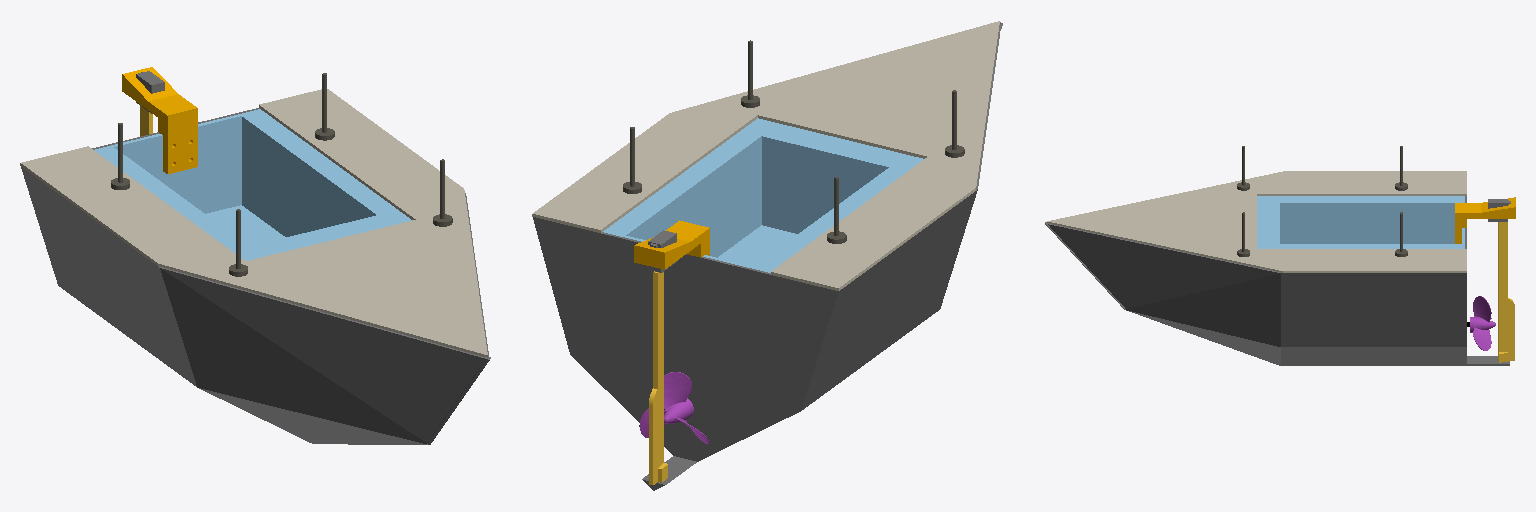
robot.urdf — onshape:
<robot name="onshape">
<link name="base_link"></link>
<joint name="base_link_to_base" type="fixed">
<parent link="base_link"/>
<child link="staticrobot" />
<origin rpy="0.0 0 0" xyz="0 0 0"/>
</joint>
<link name="staticrobot">
<visual>
<origin xyz="-0.0760565 1.12963 0.380489" rpy="0.610865 -1.66533e-16 1.5708" />
<geometry>
<mesh filename="package://msd_bot/vdowelconnector.stl"/>
</geometry>
<material name="vdowelconnector_material">
<color rgba="0.972549 0.529412 0.00392157 1.0"/>
</material>
</visual>
<collision>
<origin xyz="-0.0760565 1.12963 0.380489" rpy="0.610865 -1.66533e-16 1.5708" />
<geometry>
<mesh filename="package://msd_bot/vdowelconnector.stl"/>
</geometry>
<material name="vdowelconnector_material">
<color rgba="0.972549 0.529412 0.00392157 1.0"/>
</material>
</collision>
<visual>
<origin xyz="0.234341 1.0166 0.558811" rpy="0 -0 0" />
<geometry>
<mesh filename="package://msd_bot/antenna.stl"/>
</geometry>
<material name="antenna_material">
<color rgba="0.4 0.388235 0.34902 1.0"/>
</material>
</visual>
<collision>
<origin xyz="0.234341 1.0166 0.558811" rpy="0 -0 0" />
<geometry>
<mesh filename="package://msd_bot/antenna.stl"/>
</geometry>
<material name="antenna_material">
<color rgba="0.4 0.388235 0.34902 1.0"/>
</material>
</collision>
<visual>
<origin xyz="0.0819412 1.1436 0.249566" rpy="0 3.15544e-30 -3.14159" />
<geometry>
<mesh filename="package://msd_bot/rudderbottommount.stl"/>
</geometry>
<material name="rudderbottommount_material">
<color rgba="0.498039 0.498039 0.498039 1.0"/>
</material>
</visual>
<collision>
<origin xyz="0.0819412 1.1436 0.249566" rpy="0 3.15544e-30 -3.14159" />
<geometry>
<mesh filename="package://msd_bot/rudderbottommount.stl"/>
</geometry>
<material name="rudderbottommount_material">
<color rgba="0.498039 0.498039 0.498039 1.0"/>
</material>
</collision>
<visual>
<origin xyz="0.0719412 1.22345 0.602081" rpy="-1.5708 6.8762e-15 -1.61338e-29" />
<geometry>
<mesh filename="package://msd_bot/servo.stl"/>
</geometry>
<material name="servo_material">
<color rgba="0.501961 0.501961 0.501961 1.0"/>
</material>
</visual>
<collision>
<origin xyz="0.0719412 1.22345 0.602081" rpy="-1.5708 6.8762e-15 -1.61338e-29" />
<geometry>
<mesh filename="package://msd_bot/servo.stl"/>
</geometry>
<material name="servo_material">
<color rgba="0.501961 0.501961 0.501961 1.0"/>
</material>
</collision>
<visual>
<origin xyz="0.0819412 0.783555 0.478166" rpy="0 -0 0" />
<geometry>
<mesh filename="package://msd_bot/hull.stl"/>
</geometry>
<material name="hull_material">
<color rgba="0.498039 0.498039 0.498039 1.0"/>
</material>
</visual>
<collision>
<origin xyz="0.0819412 0.783555 0.478166" rpy="0 -0 0" />
<geometry>
<mesh filename="package://msd_bot/hull.stl"/>
</geometry>
<material name="hull_material">
<color rgba="0.498039 0.498039 0.498039 1.0"/>
</material>
</collision>
<visual>
<origin xyz="0.0819412 1.11217 0.260168" rpy="0 -0 3.14159" />
<geometry>
<mesh filename="package://msd_bot/30degsplitter.stl"/>
</geometry>
<material name="30degsplitter_material">
<color rgba="0.647059 0.647059 0.647059 1.0"/>
</material>
</visual>
<collision>
<origin xyz="0.0819412 1.11217 0.260168" rpy="0 -0 3.14159" />
<geometry>
<mesh filename="package://msd_bot/30degsplitter.stl"/>
</geometry>
<material name="30degsplitter_material">
<color rgba="0.647059 0.647059 0.647059 1.0"/>
</material>
</collision>
<visual>
<origin xyz="0.0819412 0.788 0.554366" rpy="0 -0 0" />
<geometry>
<mesh filename="package://msd_bot/hullcover.stl"/>
</geometry>
<material name="hullcover_material">
<color rgba="0.8 0.776471 0.713725 1.0"/>
</material>
</visual>
<collision>
<origin xyz="0.0819412 0.788 0.554366" rpy="0 -0 0" />
<geometry>
<mesh filename="package://msd_bot/hullcover.stl"/>
</geometry>
<material name="hullcover_material">
<color rgba="0.8 0.776471 0.713725 1.0"/>
</material>
</collision>
<visual>
<origin xyz="-0.0708549 1.12963 0.376847" rpy="2.53073 -0 -1.5708" />
<geometry>
<mesh filename="package://msd_bot/sidedowel.stl"/>
</geometry>
<material name="sidedowel_material">
<color rgba="0.941176 0.87451 0.678431 1.0"/>
</material>
</visual>
<collision>
<origin xyz="-0.0708549 1.12963 0.376847" rpy="2.53073 -0 -1.5708" />
<geometry>
<mesh filename="package://msd_bot/sidedowel.stl"/>
</geometry>
<material name="sidedowel_material">
<color rgba="0.941176 0.87451 0.678431 1.0"/>
</material>
</collision>
<visual>
<origin xyz="-0.0704588 1.0166 0.558811" rpy="0 -0 0" />
<geometry>
<mesh filename="package://msd_bot/antenna.stl"/>
</geometry>
<material name="antenna_material">
<color rgba="0.4 0.388235 0.34902 1.0"/>
</material>
</visual>
<collision>
<origin xyz="-0.0704588 1.0166 0.558811" rpy="0 -0 0" />
<geometry>
<mesh filename="package://msd_bot/antenna.stl"/>
</geometry>
<material name="antenna_material">
<color rgba="0.4 0.388235 0.34902 1.0"/>
</material>
</collision>
<visual>
<origin xyz="0.240157 1.12963 0.380177" rpy="0.610865 5.55112e-17 -1.5708" />
<geometry>
<mesh filename="package://msd_bot/vdowelconnector.stl"/>
</geometry>
<material name="vdowelconnector_material">
<color rgba="0.972549 0.529412 0.00392157 1.0"/>
</material>
</visual>
<collision>
<origin xyz="0.240157 1.12963 0.380177" rpy="0.610865 5.55112e-17 -1.5708" />
<geometry>
<mesh filename="package://msd_bot/vdowelconnector.stl"/>
</geometry>
<material name="vdowelconnector_material">
<color rgba="0.972549 0.529412 0.00392157 1.0"/>
</material>
</collision>
<visual>
<origin xyz="0.0819412 0.935955 0.401966" rpy="4.36955e-14 2.06286e-14 1.36592e-16" />
<geometry>
<mesh filename="package://msd_bot/cargohold.stl"/>
</geometry>
<material name="cargohold_material">
<color rgba="0.615686 0.811765 0.929412 1.0"/>
</material>
</visual>
<collision>
<origin xyz="0.0819412 0.935955 0.401966" rpy="4.36955e-14 2.06286e-14 1.36592e-16" />
<geometry>
<mesh filename="package://msd_bot/cargohold.stl"/>
</geometry>
<material name="cargohold_material">
<color rgba="0.615686 0.811765 0.929412 1.0"/>
</material>
</collision>
<visual>
<origin xyz="-0.0704588 0.7118 0.558811" rpy="0 -0 0" />
<geometry>
<mesh filename="package://msd_bot/antenna.stl"/>
</geometry>
<material name="antenna_material">
<color rgba="0.4 0.388235 0.34902 1.0"/>
</material>
</visual>
<collision>
<origin xyz="-0.0704588 0.7118 0.558811" rpy="0 -0 0" />
<geometry>
<mesh filename="package://msd_bot/antenna.stl"/>
</geometry>
<material name="antenna_material">
<color rgba="0.4 0.388235 0.34902 1.0"/>
</material>
</collision>
<visual>
<origin xyz="0.289365 1.12963 0.537786" rpy="1.5708 0.290161 -3.89362e-17" />
<geometry>
<mesh filename="package://msd_bot/sidedowel2.stl"/>
</geometry>
<material name="sidedowel2_material">
<color rgba="0.941176 0.87451 0.678431 1.0"/>
</material>
</visual>
<collision>
<origin xyz="0.289365 1.12963 0.537786" rpy="1.5708 0.290161 -3.89362e-17" />
<geometry>
<mesh filename="package://msd_bot/sidedowel2.stl"/>
</geometry>
<material name="sidedowel2_material">
<color rgba="0.941176 0.87451 0.678431 1.0"/>
</material>
</collision>
<visual>
<origin xyz="0.0819412 1.004 0.338466" rpy="3.14159 -0 1.5708" />
<geometry>
<mesh filename="package://msd_bot/brushlessmotor.stl"/>
</geometry>
<material name="brushlessmotor_material">
<color rgba="0 0.00784314 0.027451 1.0"/>
</material>
</visual>
<collision>
<origin xyz="0.0819412 1.004 0.338466" rpy="3.14159 -0 1.5708" />
<geometry>
<mesh filename="package://msd_bot/brushlessmotor.stl"/>
</geometry>
<material name="brushlessmotor_material">
<color rgba="0 0.00784314 0.027451 1.0"/>
</material>
</collision>
<visual>
<origin xyz="0.234956 1.12963 0.376535" rpy="2.53073 -0 1.5708" />
<geometry>
<mesh filename="package://msd_bot/sidedowel.stl"/>
</geometry>
<material name="sidedowel_material">
<color rgba="0.941176 0.87451 0.678431 1.0"/>
</material>
</visual>
<collision>
<origin xyz="0.234956 1.12963 0.376535" rpy="2.53073 -0 1.5708" />
<geometry>
<mesh filename="package://msd_bot/sidedowel.stl"/>
</geometry>
<material name="sidedowel_material">
<color rgba="0.941176 0.87451 0.678431 1.0"/>
</material>
</collision>
<visual>
<origin xyz="0.0819412 1.18022 0.574781" rpy="1.45652e-14 6.8762e-15 1.36592e-16" />
<geometry>
<mesh filename="package://msd_bot/servomount.stl"/>
</geometry>
<material name="servomount_material">
<color rgba="0.980392 0.713725 0.00392157 1.0"/>
</material>
</visual>
<collision>
<origin xyz="0.0819412 1.18022 0.574781" rpy="1.45652e-14 6.8762e-15 1.36592e-16" />
<geometry>
<mesh filename="package://msd_bot/servomount.stl"/>
</geometry>
<material name="servomount_material">
<color rgba="0.980392 0.713725 0.00392157 1.0"/>
</material>
</collision>
<visual>
<origin xyz="0.234341 0.7118 0.558811" rpy="0 -0 0" />
<geometry>
<mesh filename="package://msd_bot/antenna.stl"/>
</geometry>
<material name="antenna_material">
<color rgba="0.4 0.388235 0.34902 1.0"/>
</material>
</visual>
<collision>
<origin xyz="0.234341 0.7118 0.558811" rpy="0 -0 0" />
<geometry>
<mesh filename="package://msd_bot/antenna.stl"/>
</geometry>
<material name="antenna_material">
<color rgba="0.4 0.388235 0.34902 1.0"/>
</material>
</collision>
<visual>
<origin xyz="0.0819412 1.13122 0.260168" rpy="3.14159 -5.55112e-17 3.14159" />
<geometry>
<mesh filename="package://msd_bot/basedowel.stl"/>
</geometry>
<material name="basedowel_material">
<color rgba="0.941176 0.87451 0.678431 1.0"/>
</material>
</visual>
<collision>
<origin xyz="0.0819412 1.13122 0.260168" rpy="3.14159 -5.55112e-17 3.14159" />
<geometry>
<mesh filename="package://msd_bot/basedowel.stl"/>
</geometry>
<material name="basedowel_material">
<color rgba="0.941176 0.87451 0.678431 1.0"/>
</material>
</collision>
<visual>
<origin xyz="-0.125264 1.12963 0.538098" rpy="1.5708 0.290161 3.14159" />
<geometry>
<mesh filename="package://msd_bot/sidedowel2.stl"/>
</geometry>
<material name="sidedowel2_material">
<color rgba="0.941176 0.87451 0.678431 1.0"/>
</material>
</visual>
<collision>
<origin xyz="-0.125264 1.12963 0.538098" rpy="1.5708 0.290161 3.14159" />
<geometry>
<mesh filename="package://msd_bot/sidedowel2.stl"/>
</geometry>
<material name="sidedowel2_material">
<color rgba="0.941176 0.87451 0.678431 1.0"/>
</material>
</collision>
<inertial>
<origin xyz="0.0819416 0.933985 0.432327" rpy="0 0 0"/>
<mass value="15.22" />
<inertia ixx="0.486275" ixy="-1.26935e-06"  ixz="1.66579e-06" iyy="0.223783" iyz="0.0602808" izz="0.522813" />
</inertial>
</link>

<link name="propeller">
<visual>
<origin xyz="1.38778e-17 0 0.02" rpy="-1.5708 -3.72975e-81 0" />
<geometry>
<mesh filename="package://msd_bot/propeller.stl"/>
</geometry>
<material name="propeller_material">
<color rgba="0.682353 0.333333 0.737255 1.0"/>
</material>
</visual>
<collision>
<origin xyz="1.38778e-17 0 0.02" rpy="-1.5708 -3.72975e-81 0" />
<geometry>
<mesh filename="package://msd_bot/propeller.stl"/>
</geometry>
<material name="propeller_material">
<color rgba="0.682353 0.333333 0.737255 1.0"/>
</material>
</collision>
<inertial>
<origin xyz="1.6644e-07 -8.74972e-08 -0.00131544" rpy="0 0 0"/>
<mass value="0.0252682" />
<inertia ixx="1.02998e-05" ixy="4.84789e-11"  ixz="7.4214e-11" iyy="1.02998e-05" iyz="5.65357e-11" izz="1.394e-05" />
</inertial>
</link>

<joint name="propeller_shaft" type="revolute">
<origin xyz="0.0819412 1.169 0.338466" rpy="1.5708 -1.02461e-33 -3.55271e-15" />
<parent link="staticrobot" />
<child link="propeller" />
<axis xyz="0 0 1"/>
<limit effort="1" velocity="20" />
<joint_properties friction="0.0"/>
</joint>

<link name="rudder">
<visual>
<origin xyz="-0.003175 -0.009525 -0.291465" rpy="-9.86076e-32 -7.88861e-31 -6.99499e-18" />
<geometry>
<mesh filename="package://msd_bot/rudder.stl"/>
</geometry>
<material name="rudder_material">
<color rgba="0.980392 0.796078 0.262745 1.0"/>
</material>
</visual>
<collision>
<origin xyz="-0.003175 -0.009525 -0.291465" rpy="-9.86076e-32 -7.88861e-31 -6.99499e-18" />
<geometry>
<mesh filename="package://msd_bot/rudder.stl"/>
</geometry>
<material name="rudder_material">
<color rgba="0.980392 0.796078 0.262745 1.0"/>
</material>
</collision>
<inertial>
<origin xyz="-3.64292e-17 0.00323547 -0.179304" rpy="0 0 0"/>
<mass value="0.0651203" />
<inertia ixx="0.000500832" ixy="-6.62544e-21"  ixz="-7.30676e-23" iyy="0.00049688" iyz="1.16286e-05" izz="4.87634e-06" />
</inertial>
</link>

<joint name="servo_rudder" type="revolute">
<origin xyz="0.0819412 1.21345 0.560081" rpy="7.78435e-16 6.85351e-15 0.0697974" />
<parent link="staticrobot" />
<child link="rudder" />
<axis xyz="0 0 1"/>
<limit effort="1" velocity="20" />
<joint_properties friction="0.0"/>
</joint>


</robot>

--- What the picture shows (computed from the rendered views, not written in the file) ---
3 views of the same robot in one strip: view 1: azimuth 30°, elevation 25°; view 2: azimuth 150°, elevation 25°; view 3: azimuth 270°, elevation 25° (orthographic).
Robot: onshape — 4 links, 3 joints (2 revolute, 1 fixed); root link base_link; default pose: all joints at 0.
Links seen in each view (by area): view 1: staticrobot; view 2: staticrobot, rudder, propeller; view 3: staticrobot, rudder, propeller.
Boxes of the visible links, x1,y1,x2,y2 form: staticrobot: (20, 67, 490, 444); staticrobot: (532, 21, 1002, 490); rudder: (649, 271, 667, 484); propeller: (639, 372, 708, 443); staticrobot: (1045, 146, 1515, 365); rudder: (1498, 222, 1514, 362); propeller: (1470, 296, 1495, 350).
Size in the robot's own frame: 0.4572 by 0.9107 by 0.3981 metres.
Meshes: 15 distinct files referenced, 21 mesh visuals loaded (15 binary STL).